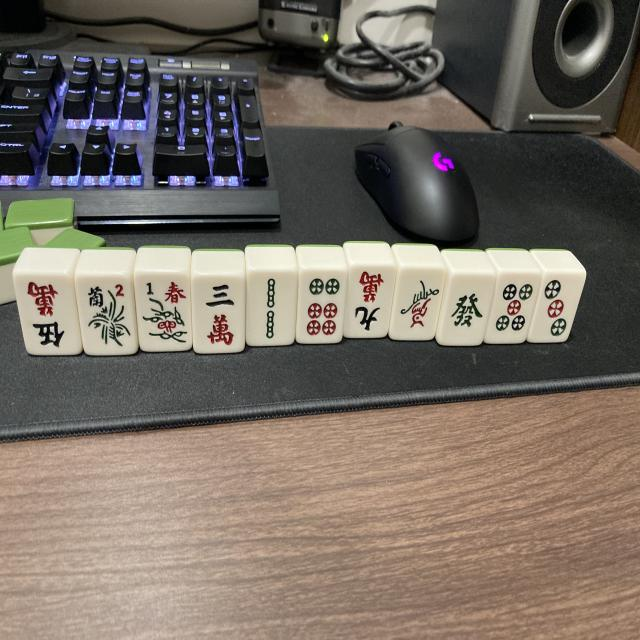f2: (75, 278, 136, 353)
fa: (442, 279, 493, 346)
ff1: (136, 276, 194, 348)
m3: (192, 279, 245, 354)
m5: (14, 276, 80, 354)
m9: (345, 267, 393, 334)
s1: (396, 274, 444, 338)
s2: (248, 274, 298, 346)
t3: (529, 278, 581, 343)
t5: (484, 279, 537, 344)
t6: (298, 270, 347, 340)
